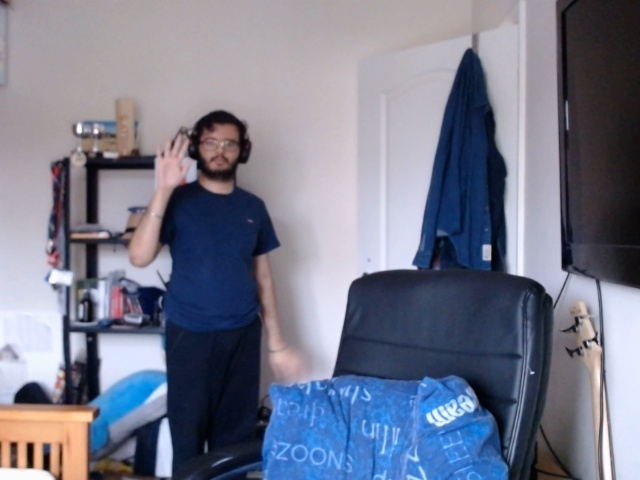Hello: (145, 131, 196, 193)
